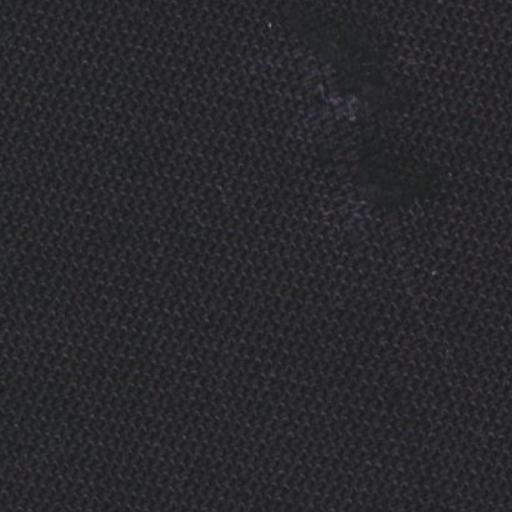DaiSha: (313, 4, 452, 194)
